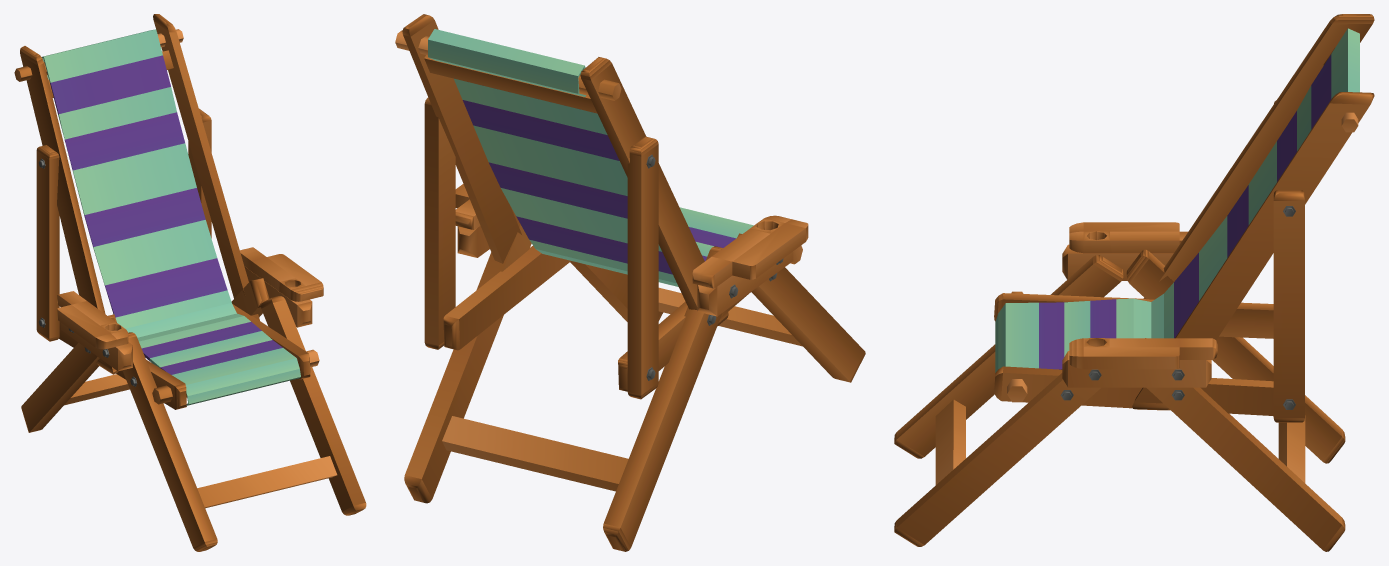
File: silla3.glb
The picture shows the model from 3 angles, left to right: view 1: azimuth 30°, elevation 25°; view 2: azimuth 150°, elevation 25°; view 3: azimuth 270°, elevation 25°; orthographic projection. The views are drawn at different scales.
Visible parts, largest first — view 1: TELA, MADERAS; view 2: MADERAS, TELA; view 3: MADERAS, TELA.
Part boxes in pixels (left/top/right/bottom): TELA: left=41, top=29, right=300, bottom=405; MADERAS: left=14, top=14, right=366, bottom=551; MADERAS: left=395, top=14, right=865, bottom=551; TELA: left=428, top=29, right=753, bottom=286; MADERAS: left=894, top=14, right=1374, bottom=551; TELA: left=995, top=28, right=1359, bottom=372.
Size of the model in its own units: 3.22 by 5.03 by 4.86.
2 materials, 2 textured.
